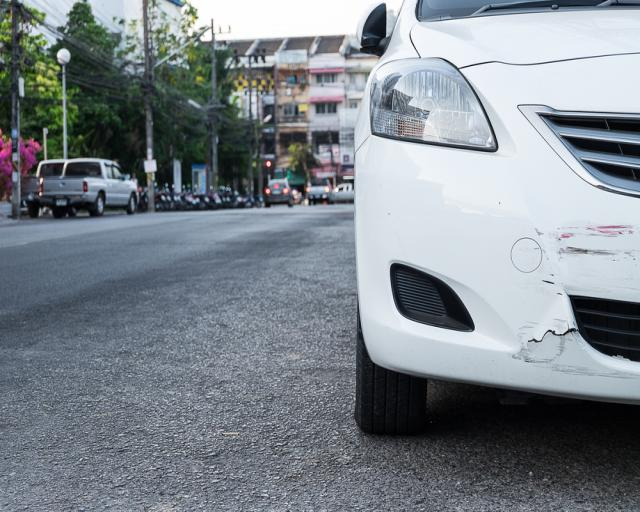crack: (527, 327, 578, 343)
scratch: (517, 222, 640, 341), (511, 333, 640, 381)
